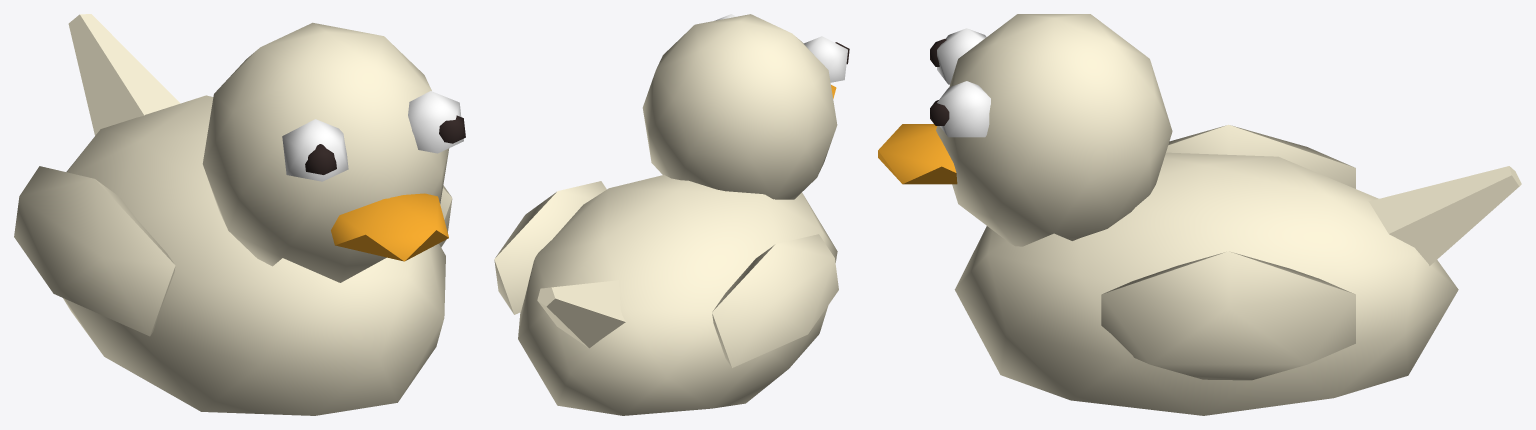
File: duck.glb
3 renders of one model, left to right at view 1: azimuth 30°, elevation 25°; view 2: azimuth 150°, elevation 25°; view 3: azimuth 270°, elevation 25°, orthographic. The views are drawn at different scales.
Parts seen in each view (by area): view 1: duck; view 2: duck; view 3: duck.
Part boxes in pixels (x1=…): duck: x1=14, y1=14, x2=465, y2=415; duck: x1=494, y1=14, x2=849, y2=415; duck: x1=878, y1=14, x2=1521, y2=415.
Bounding box in the file's own units: 0.3116 × 0.3363 × 0.516.
Materials: 1 (1 with a texture image).
